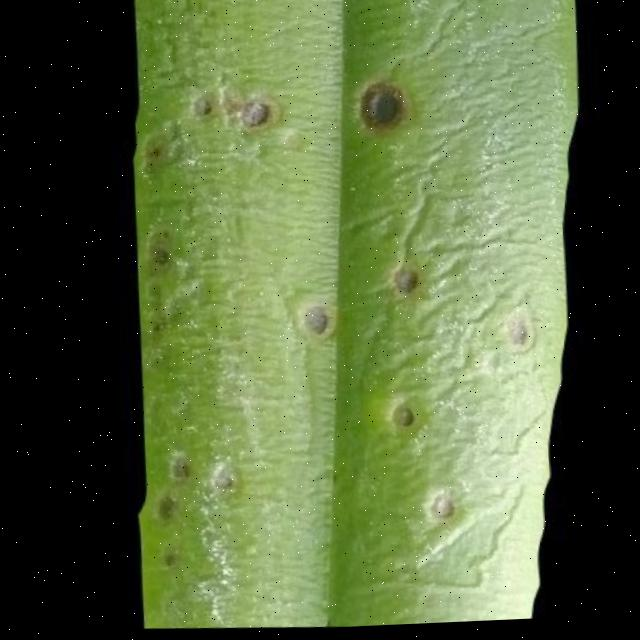mite: (185, 80, 411, 140), (382, 399, 454, 527), (339, 68, 425, 150), (231, 91, 281, 138), (494, 312, 534, 361), (416, 487, 455, 530), (380, 397, 418, 441), (297, 304, 329, 339), (143, 230, 171, 269), (239, 100, 272, 130), (502, 319, 529, 355), (203, 464, 232, 495), (422, 495, 449, 524), (385, 405, 412, 432), (141, 138, 166, 167), (149, 493, 171, 522), (164, 455, 186, 483), (192, 95, 214, 120), (152, 547, 174, 570), (148, 245, 168, 268)
sunburn: (353, 82, 409, 140)
